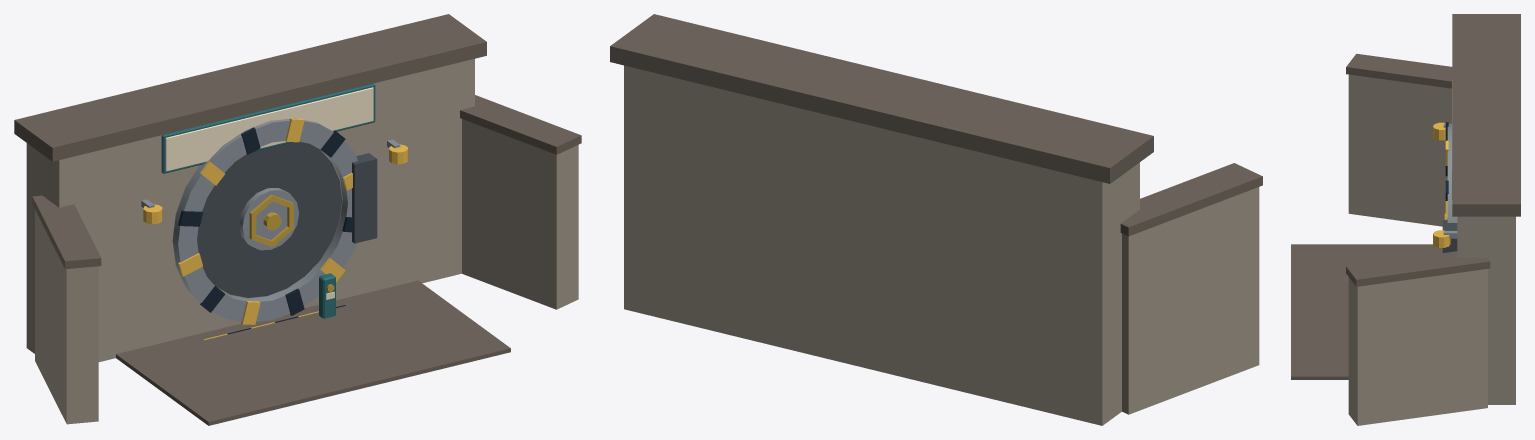
Rendered from Bldg_BunkerEntrance.fbx.
3 views of the same model, side by side, from view 1: azimuth 30°, elevation 25°; view 2: azimuth 150°, elevation 25°; view 3: azimuth 270°, elevation 25° (orthographic). The views are drawn at different scales.
Visible parts, largest first — view 1: Headwall, Decor, Pad, Wing2, Door, Wing1, Ring, Sign1, DecorNeon, CallBox; view 2: Headwall, Decor, Wing1; view 3: Decor, Wing2, Wing1, Pad, Headwall, Ring, DecorNeon.
Boxes of the visible parts, x1,y1,x2,y2 form: Headwall: (26,59,474,361); Decor: (14,14,581,340); Pad: (116,280,510,425); Wing2: (462,119,578,309); Door: (197,141,342,297); Wing1: (35,210,98,424); Ring: (172,118,357,321); Sign1: (165,87,373,171); DecorNeon: (143,144,408,224); CallBox: (319,273,335,318); Headwall: (624,65,1139,425); Decor: (610,14,1262,236); Wing1: (1122,187,1259,414); Decor: (1346,14,1520,286); Wing2: (1348,269,1487,425); Wing1: (1348,74,1451,226); Pad: (1291,244,1442,379); Headwall: (1457,216,1515,404); Ring: (1447,123,1457,222); DecorNeon: (1433,122,1450,247).
Size of the model in its own units: 54.68 by 23.1 by 23.5.
